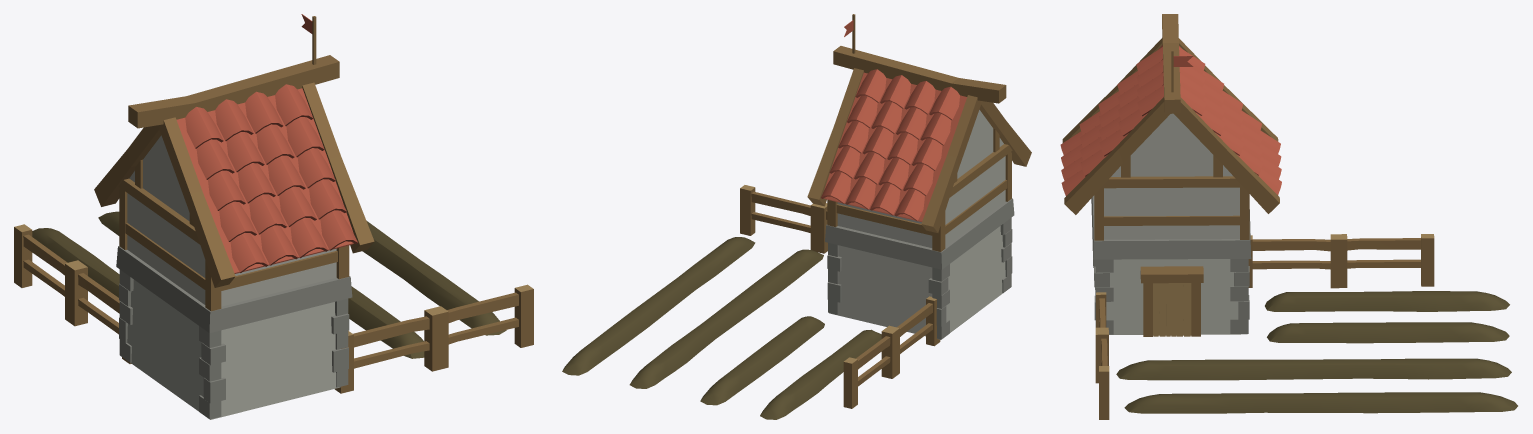
File: farm_secondage_level2_lev1.glb
3 views of the same model, side by side, from view 1: azimuth 30°, elevation 25°; view 2: azimuth 150°, elevation 25°; view 3: azimuth 270°, elevation 25° (orthographic). The views are drawn at different scales.
Parts seen in each view (by area): view 1: farm_secondage_level2_lev1; view 2: farm_secondage_level2_lev1; view 3: farm_secondage_level2_lev1.
Boxes of the visible parts, box(x1,y1,x2,y2) form: farm_secondage_level2_lev1: box(14, 14, 533, 419); farm_secondage_level2_lev1: box(562, 14, 1031, 419); farm_secondage_level2_lev1: box(1060, 14, 1517, 419).
Bounding box in the file's own units: 10.26 × 9.27 × 13.07.
